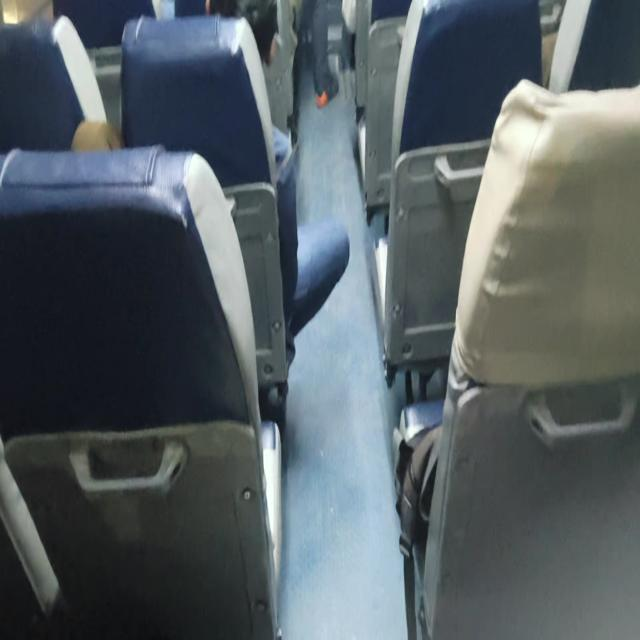person: (195, 0, 269, 69)
